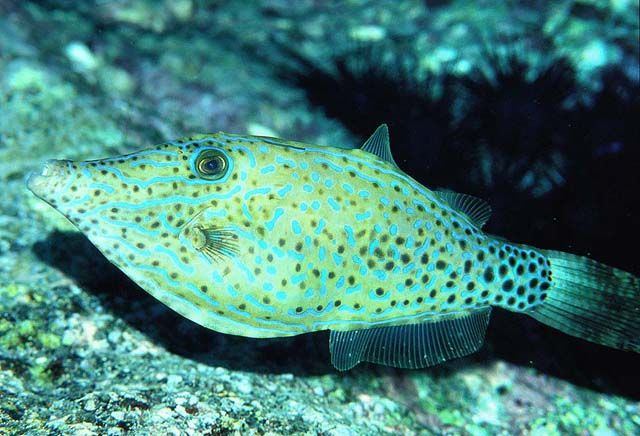fish: (29, 131, 640, 368)
